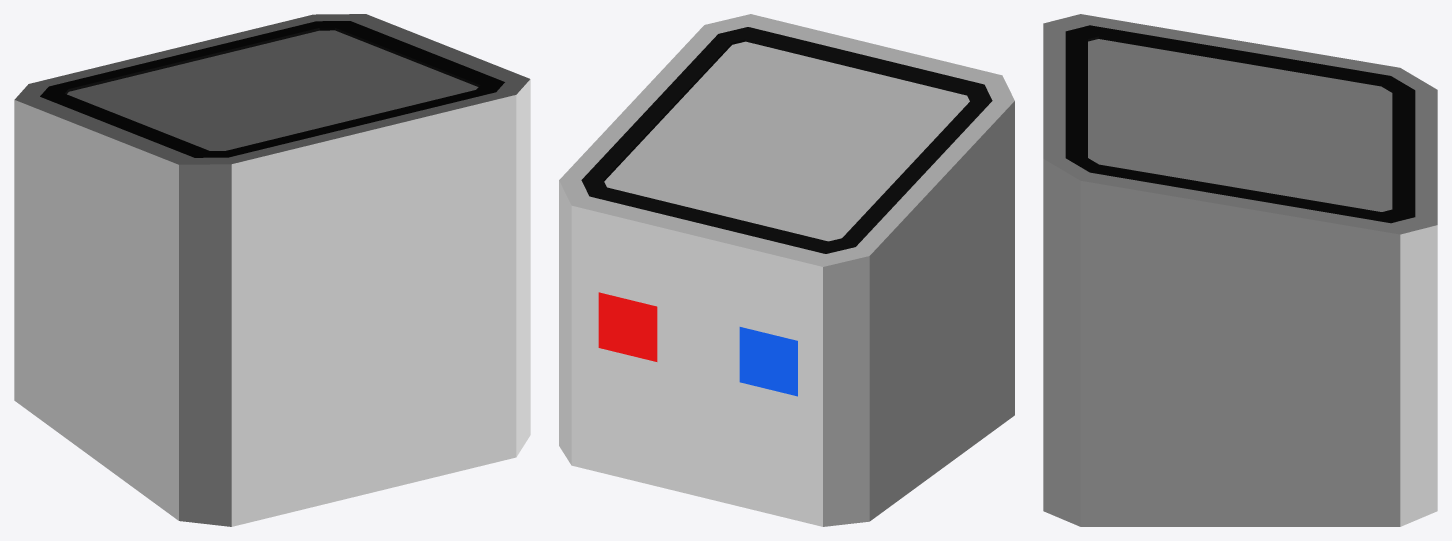
Rendered from Payment Scanning Box.fbx.
3 views of the same model, side by side, from view 1: azimuth 30°, elevation 25°; view 2: azimuth 150°, elevation 25°; view 3: azimuth 270°, elevation 25° (orthographic). The views are drawn at different scales.
Parts seen in each view (by area): view 1: Node 0; view 2: Node 0; view 3: Node 0.
Part boxes in pixels (box(x1,y1,x2,y2)): Node 0: box(14, 14, 530, 526); Node 0: box(559, 14, 1014, 526); Node 0: box(1043, 14, 1437, 526).
Bounding box in the file's own units: 0.0876 × 0.0877 × 0.0876.
